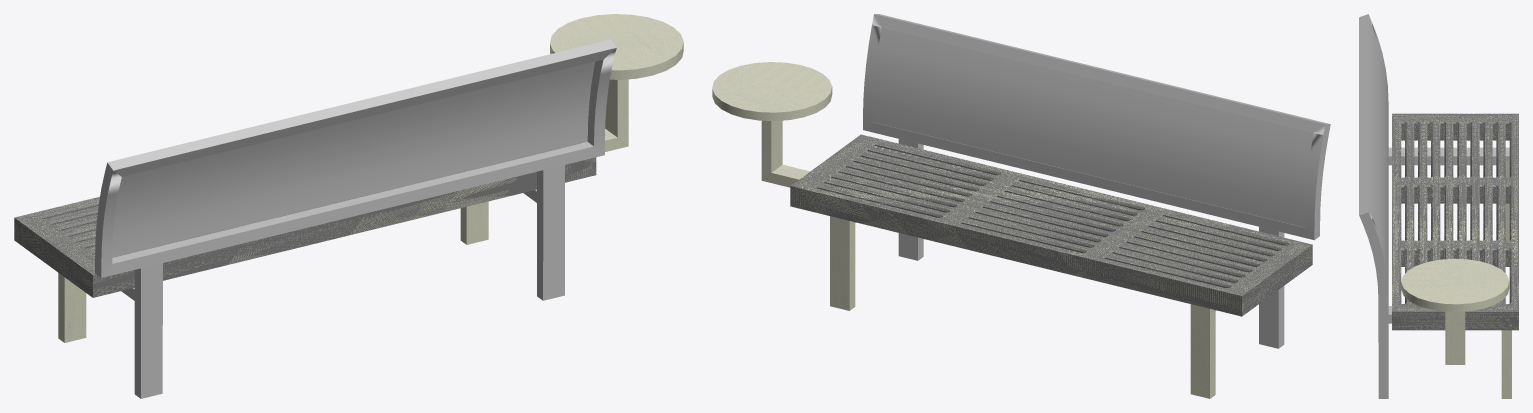
3 renders of one model, left to right at view 1: azimuth 30°, elevation 25°; view 2: azimuth 150°, elevation 25°; view 3: azimuth 270°, elevation 25°, orthographic. The views are drawn at different scales.
Visible parts, largest first — view 1: mesh9_mesh9-geometry, mesh7_mesh7-geometry, mesh1_mesh1-geometry, mesh10_mesh10-geometry, mesh14_mesh14-geometry, mesh2_mesh2-geometry, mesh5_mesh5-geometry, mesh3_mesh3-geometry; view 2: mesh9_mesh9-geometry, mesh1_mesh1-geometry, mesh7_mesh7-geometry, mesh14_mesh14-geometry, mesh2_mesh2-geometry, mesh10_mesh10-geometry, mesh5_mesh5-geometry, mesh3_mesh3-geometry; view 3: mesh1_mesh1-geometry, mesh14_mesh14-geometry, mesh9_mesh9-geometry, mesh7_mesh7-geometry, mesh10_mesh10-geometry, mesh3_mesh3-geometry, mesh2_mesh2-geometry.
Boxes of the visible parts, x1,y1,x2,y2 form: mesh9_mesh9-geometry: (112,61,595,257); mesh7_mesh7-geometry: (101,39,616,277); mesh1_mesh1-geometry: (14,143,596,297); mesh10_mesh10-geometry: (121,165,564,398); mesh14_mesh14-geometry: (550,14,683,151); mesh2_mesh2-geometry: (58,201,488,342); mesh5_mesh5-geometry: (95,162,121,277); mesh3_mesh3-geometry: (587,48,616,154); mesh9_mesh9-geometry: (872,27,1313,227); mesh1_mesh1-geometry: (790,134,1312,316); mesh7_mesh7-geometry: (863,14,1330,239); mesh14_mesh14-geometry: (712,62,832,187); mesh2_mesh2-geometry: (830,216,1215,398); mesh10_mesh10-geometry: (854,139,1284,348); mesh5_mesh5-geometry: (1304,124,1330,239); mesh3_mesh3-geometry: (863,14,881,129); mesh1_mesh1-geometry: (1392,113,1518,330); mesh14_mesh14-geometry: (1401,258,1509,364); mesh9_mesh9-geometry: (1372,28,1388,294); mesh7_mesh7-geometry: (1359,14,1372,215); mesh10_mesh10-geometry: (1378,147,1509,398); mesh3_mesh3-geometry: (1359,212,1388,309); mesh2_mesh2-geometry: (1501,158,1511,398).
Size of the model in its own units: 0.9034 by 0.3488 by 0.2494.
